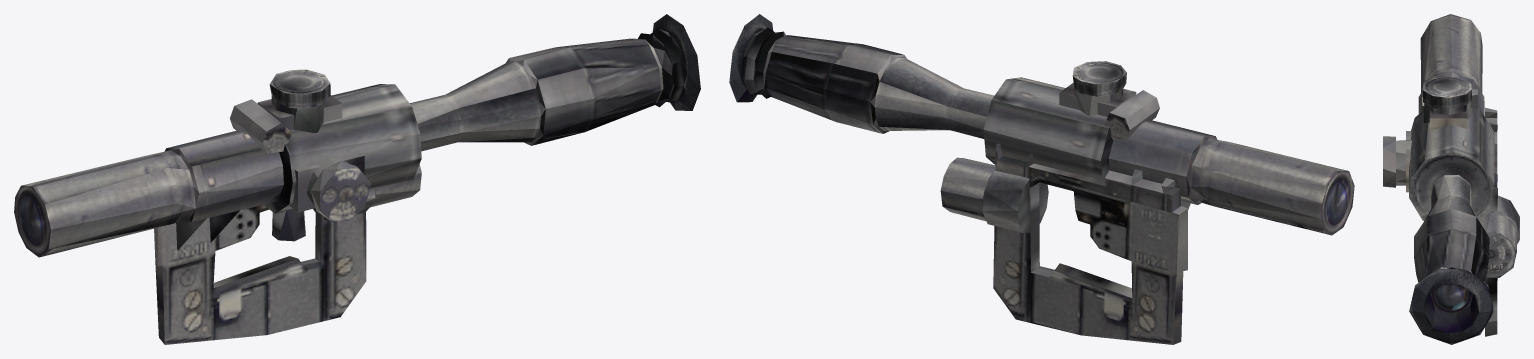
Rendered from w_pso1.obj.
3 views of the same model, side by side, from view 1: azimuth 30°, elevation 25°; view 2: azimuth 150°, elevation 25°; view 3: azimuth 270°, elevation 25° (orthographic). The views are drawn at different scales.
Visible parts, largest first — view 1: W_Pso1; view 2: W_Pso1; view 3: W_Pso1.
Boxes of the visible parts, x1,y1,x2,y2 form: W_Pso1: [14, 14, 700, 344]; W_Pso1: [729, 14, 1354, 344]; W_Pso1: [1383, 14, 1519, 344].
Size of the model in its own units: 3.15 by 1.23 by 0.6837.
